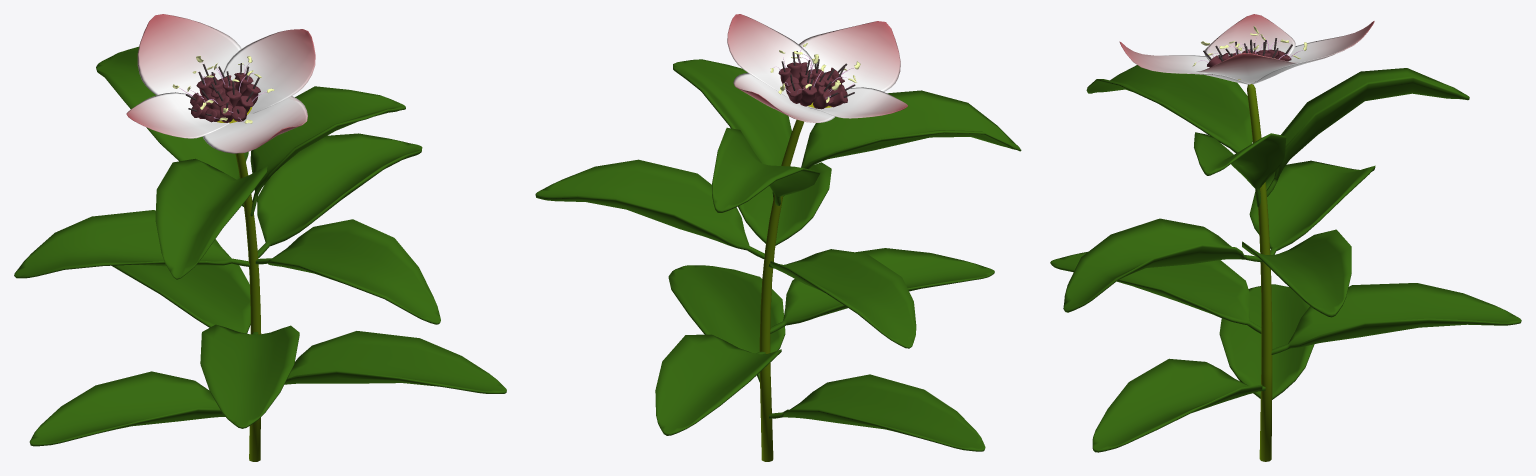
File: Cornus SuecicaText.fbx
3 renders of one model, left to right at view 1: azimuth 30°, elevation 25°; view 2: azimuth 150°, elevation 25°; view 3: azimuth 270°, elevation 25°, orthographic.
Visible parts, largest first — view 1: WholePlant.083, WholePlant.087, WholePlant.086, WholePlant.085, WholePlant.084; view 2: WholePlant.083, WholePlant.085, WholePlant.086, WholePlant.084, WholePlant.087; view 3: WholePlant.083, WholePlant.084, WholePlant.086, WholePlant.085, WholePlant.087.
Boxes of the visible parts, x1,y1,x2,y2 form: WholePlant.083: (14, 46, 506, 461); WholePlant.087: (137, 14, 241, 95); WholePlant.086: (223, 29, 315, 113); WholePlant.085: (202, 96, 307, 153); WholePlant.084: (126, 92, 229, 138); WholePlant.083: (535, 43, 1021, 461); WholePlant.085: (799, 21, 900, 91); WholePlant.086: (727, 14, 814, 97); WholePlant.084: (808, 87, 907, 118); WholePlant.087: (733, 73, 835, 122); WholePlant.083: (1050, 26, 1521, 461); WholePlant.084: (1204, 14, 1295, 60); WholePlant.086: (1196, 53, 1298, 83); WholePlant.085: (1119, 41, 1250, 84); WholePlant.087: (1252, 21, 1374, 84).
Bounding box in the file's own units: 30.88 × 30 × 30.01.
